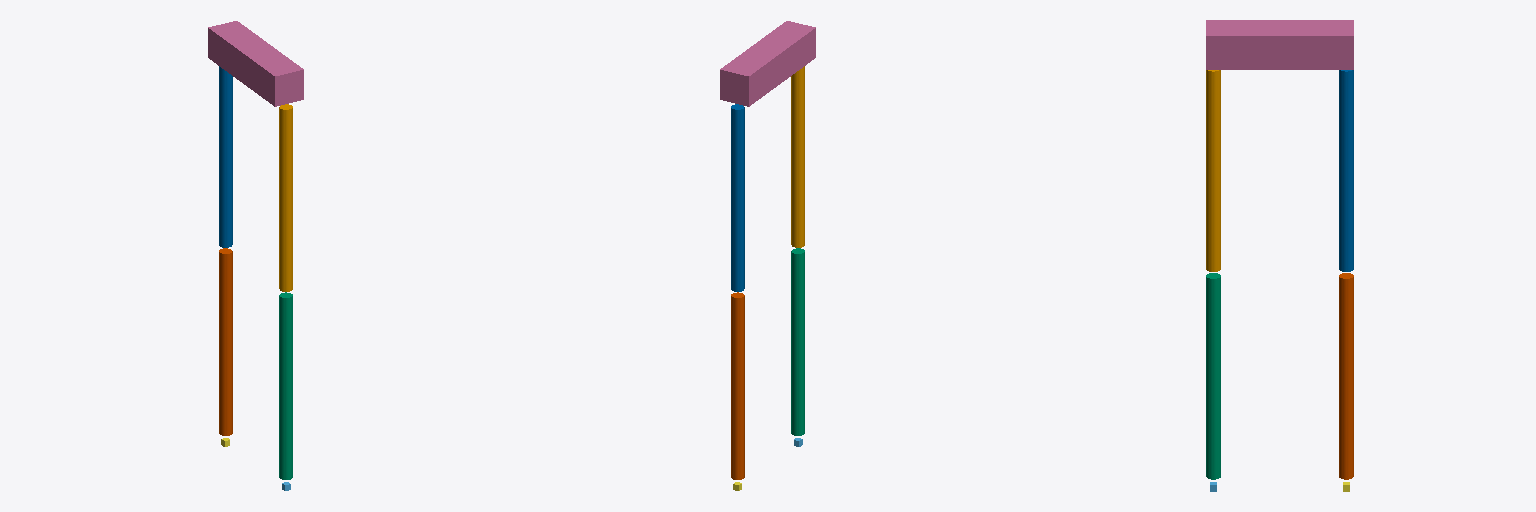
robot.urdf — pabi_legs:
<?xml version="1.0" ?>
<robot name="pabi_legs">
  <joint name="pabi_legs__link_0_JOINT_3" type="revolute">
    <parent link="pabi_legs__link_0"/>
    <child link="pabi_legs__link_1"/>
    <origin rpy="0  0  0" xyz="0    0   -0.31"/>
    <axis xyz="1  0  0"/>
    <limit effort="0" lower="-1.1344640138" upper="1.1344640138" velocity="0.0"/>
  </joint>
  <joint name="pabi_legs__link_1_JOINT_0" type="revolute">
    <parent link="pabi_legs__link_1"/>
    <child link="pabi_legs__link_0_0"/>
    <origin rpy="0  0  0" xyz="0     0    -0.315"/>
    <axis xyz="1  0  0"/>
    <limit effort="0" lower="-1.1344640138" upper="1.1344640138" velocity="0.0"/>
  </joint>
  <joint name="pabi_legs__link_2_JOINT_4" type="revolute">
    <parent link="pabi_legs__link_2"/>
    <child link="pabi_legs__link_3"/>
    <origin rpy="0  0  0" xyz="0    0   -0.31"/>
    <axis xyz="1  0  0"/>
    <limit effort="0" lower="-1.1344640138" upper="1.1344640138" velocity="0.0"/>
  </joint>
  <joint name="pabi_legs__link_3_JOINT_1" type="revolute">
    <parent link="pabi_legs__link_3"/>
    <child link="pabi_legs__link_1_0"/>
    <origin rpy="0  0  0" xyz="0     0    -0.315"/>
    <axis xyz="1  0  0"/>
    <limit effort="0" lower="-1.1344640138" upper="1.1344640138" velocity="0.0"/>
  </joint>
  <joint name="pabi_legs__link_4_JOINT_0" type="revolute">
    <parent link="pabi_legs__link_4"/>
    <child link="pabi_legs__link_0"/>
    <origin rpy="0  0  0" xyz="0.03394 -0.17347  0.25154"/>
    <axis xyz="1  0  0"/>
    <limit effort="0" lower="-1.1344640138" upper="1.1344640138" velocity="0.0"/>
  </joint>
  <joint name="pabi_legs__link_4_JOINT_1" type="revolute">
    <parent link="pabi_legs__link_4"/>
    <child link="pabi_legs__link_2"/>
    <origin rpy="0  0  0" xyz="0.03394  0.00653  0.25154"/>
    <axis xyz="1  0  0"/>
    <limit effort="0" lower="-1.1344640138" upper="1.1344640138" velocity="0.0"/>
  </joint>
  <link name="pabi_legs__link_0">
    <inertial>
      <mass value="1"/>
      <origin rpy="0  0  0" xyz="0    0   -0.15"/>
      <inertia ixx="0.145833" ixy="0" ixz="0" iyy="0.145833" iyz="0" izz="0.125"/>
    </inertial>
    <collision name="pabi_legs__collision">
      <origin rpy="0  0  0" xyz="0    0   -0.15"/>
      <geometry>
        <cylinder length="0.3" radius="0.01"/>
      </geometry>
    </collision>
    <visual name="pabi_legs__visual">
      <origin rpy="0  0  0" xyz="0    0   -0.15"/>
      <geometry>
        <cylinder length="0.3" radius="0.01"/>
      </geometry>
    </visual>
  </link>
  <link name="pabi_legs__link_0_0">
    <inertial>
      <mass value="1"/>
      <origin rpy="0  0  0" xyz="0  0  0"/>
      <inertia ixx="0.166667" ixy="0" ixz="0" iyy="0.166667" iyz="0" izz="0.166667"/>
    </inertial>
    <collision name="pabi_legs__collision">
      <origin rpy="0  0  0" xyz="0  0  0"/>
      <geometry>
        <box size="0.01 0.01 0.01"/>
      </geometry>
    </collision>
    <visual name="pabi_legs__visual">
      <origin rpy="0  0  0" xyz="0  0  0"/>
      <geometry>
        <box size="0.01 0.01 0.01"/>
      </geometry>
    </visual>
  </link>
  <link name="pabi_legs__link_1">
    <inertial>
      <mass value="1"/>
      <origin rpy="0  0  0" xyz="0    0   -0.15"/>
      <inertia ixx="0.145833" ixy="0" ixz="0" iyy="0.145833" iyz="0" izz="0.125"/>
    </inertial>
    <collision name="pabi_legs__collision">
      <origin rpy="0  0  0" xyz="0    0   -0.15"/>
      <geometry>
        <cylinder length="0.3" radius="0.01"/>
      </geometry>
    </collision>
    <visual name="pabi_legs__visual">
      <origin rpy="0  0  0" xyz="0    0   -0.15"/>
      <geometry>
        <cylinder length="0.3" radius="0.01"/>
      </geometry>
    </visual>
  </link>
  <link name="pabi_legs__link_1_0">
    <inertial>
      <mass value="1"/>
      <origin rpy="0  0  0" xyz="0  0  0"/>
      <inertia ixx="0.166667" ixy="0" ixz="0" iyy="0.166667" iyz="0" izz="0.166667"/>
    </inertial>
    <collision name="pabi_legs__collision">
      <origin rpy="0  0  0" xyz="0  0  0"/>
      <geometry>
        <box size="0.01 0.01 0.01"/>
      </geometry>
    </collision>
    <visual name="pabi_legs__visual">
      <origin rpy="0  0  0" xyz="0  0  0"/>
      <geometry>
        <box size="0.01 0.01 0.01"/>
      </geometry>
    </visual>
  </link>
  <link name="pabi_legs__link_2">
    <inertial>
      <mass value="1"/>
      <origin rpy="0  0  0" xyz="0    0   -0.15"/>
      <inertia ixx="0.145833" ixy="0" ixz="0" iyy="0.145833" iyz="0" izz="0.125"/>
    </inertial>
    <collision name="pabi_legs__collision">
      <origin rpy="0  0  0" xyz="0    0   -0.15"/>
      <geometry>
        <cylinder length="0.3" radius="0.01"/>
      </geometry>
    </collision>
    <visual name="pabi_legs__visual">
      <origin rpy="0  0  0" xyz="0    0   -0.15"/>
      <geometry>
        <cylinder length="0.3" radius="0.01"/>
      </geometry>
    </visual>
  </link>
  <link name="pabi_legs__link_3">
    <inertial>
      <mass value="1"/>
      <origin rpy="0  0  0" xyz="0    0   -0.15"/>
      <inertia ixx="0.145833" ixy="0" ixz="0" iyy="0.145833" iyz="0" izz="0.125"/>
    </inertial>
    <collision name="pabi_legs__collision">
      <origin rpy="0  0  0" xyz="0    0   -0.15"/>
      <geometry>
        <cylinder length="0.3" radius="0.01"/>
      </geometry>
    </collision>
    <visual name="pabi_legs__visual">
      <origin rpy="0  0  0" xyz="0    0   -0.15"/>
      <geometry>
        <cylinder length="0.3" radius="0.01"/>
      </geometry>
    </visual>
  </link>
  <link name="pabi_legs__link_4">
    <inertial>
      <mass value="1"/>
      <origin rpy="0  0  0" xyz="0.03394 -0.08347  0.28654"/>
      <inertia ixx="0.166667" ixy="0" ixz="0" iyy="0.166667" iyz="0" izz="0.166667"/>
    </inertial>
    <collision name="pabi_legs__collision">
      <origin rpy="0  0  0" xyz="0.03394 -0.08347  0.28654"/>
      <geometry>
        <box size="0.05 0.2 0.05"/>
      </geometry>
    </collision>
    <visual name="pabi_legs__visual">
      <origin rpy="0  0  0" xyz="0.03394 -0.08347  0.28654"/>
      <geometry>
        <box size="0.05 0.2 0.05"/>
      </geometry>
    </visual>
  </link>
</robot>

--- Render facts (derived) ---
3 views of the same robot in one strip: view 1: azimuth 30°, elevation 25°; view 2: azimuth 150°, elevation 25°; view 3: azimuth 270°, elevation 25° (orthographic).
Model pabi_legs with 7 links and 6 joints (6 revolute), rooted at pabi_legs__link_4, posed all joints at 0.
Links seen in each view (by area): view 1: pabi_legs__link_4, pabi_legs__link_3, pabi_legs__link_0, pabi_legs__link_1, pabi_legs__link_2; view 2: pabi_legs__link_4, pabi_legs__link_1, pabi_legs__link_2, pabi_legs__link_3, pabi_legs__link_0; view 3: pabi_legs__link_4, pabi_legs__link_1, pabi_legs__link_3, pabi_legs__link_0, pabi_legs__link_2.
Boxes of the visible links, bbox=[...] form: pabi_legs__link_4: bbox=[208, 21, 303, 106]; pabi_legs__link_3: bbox=[219, 248, 232, 435]; pabi_legs__link_0: bbox=[279, 104, 292, 291]; pabi_legs__link_1: bbox=[279, 292, 292, 479]; pabi_legs__link_2: bbox=[219, 66, 232, 247]; pabi_legs__link_4: bbox=[720, 21, 815, 106]; pabi_legs__link_1: bbox=[791, 248, 804, 435]; pabi_legs__link_2: bbox=[731, 104, 744, 291]; pabi_legs__link_3: bbox=[731, 292, 744, 479]; pabi_legs__link_0: bbox=[791, 66, 804, 247]; pabi_legs__link_4: bbox=[1206, 20, 1353, 69]; pabi_legs__link_1: bbox=[1206, 273, 1220, 479]; pabi_legs__link_3: bbox=[1339, 273, 1353, 479]; pabi_legs__link_0: bbox=[1206, 70, 1220, 271]; pabi_legs__link_2: bbox=[1339, 70, 1353, 271].
Size in the robot's own frame: 0.05 by 0.2 by 0.69 metres.
Geometry: primitives only (box / cylinder / sphere), no mesh files.